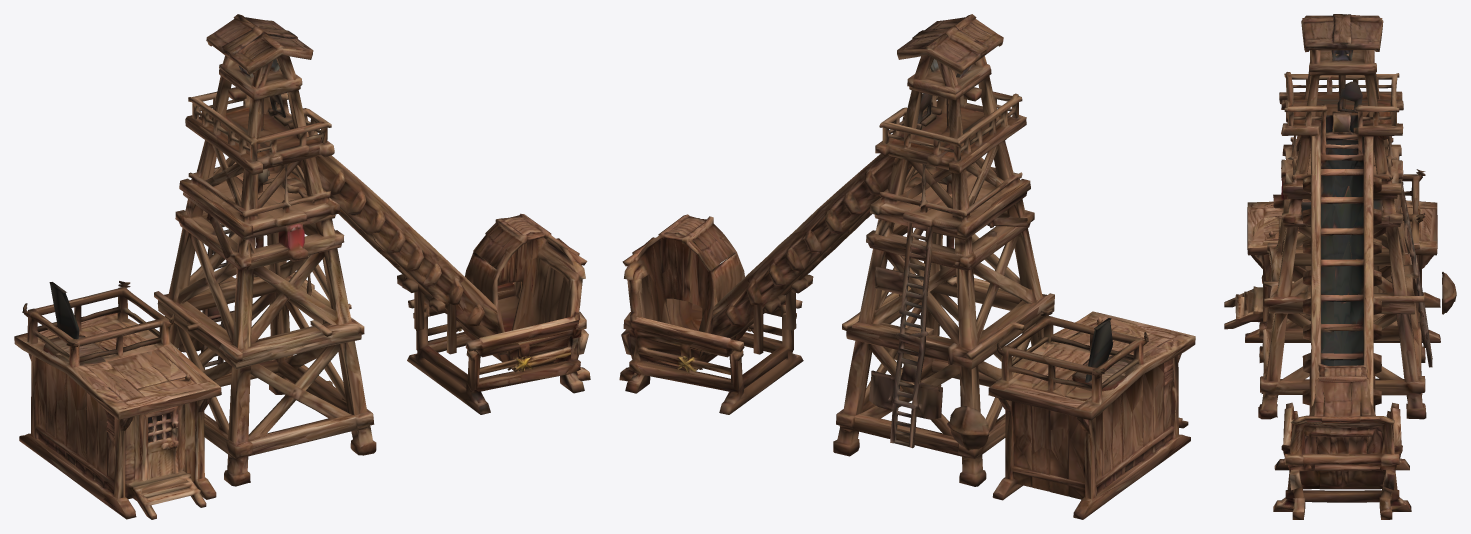
Rendered from bld_west_headframe.fbx.
3 views of the same model, side by side, from view 1: azimuth 30°, elevation 25°; view 2: azimuth 150°, elevation 25°; view 3: azimuth 270°, elevation 25° (orthographic). The views are drawn at different scales.
Parts seen in each view (by area): view 1: bld_west_headframe_LOD0; view 2: bld_west_headframe_LOD0; view 3: bld_west_headframe_LOD0.
Part boxes in pixels (box(x1,y1,x2,y2)): bld_west_headframe_LOD0: box(14, 14, 590, 519); bld_west_headframe_LOD0: box(619, 14, 1195, 519); bld_west_headframe_LOD0: box(1224, 14, 1456, 519).
Size of what is drawn, in the model's own units: 0.9844 by 0.7603 by 0.4321.
